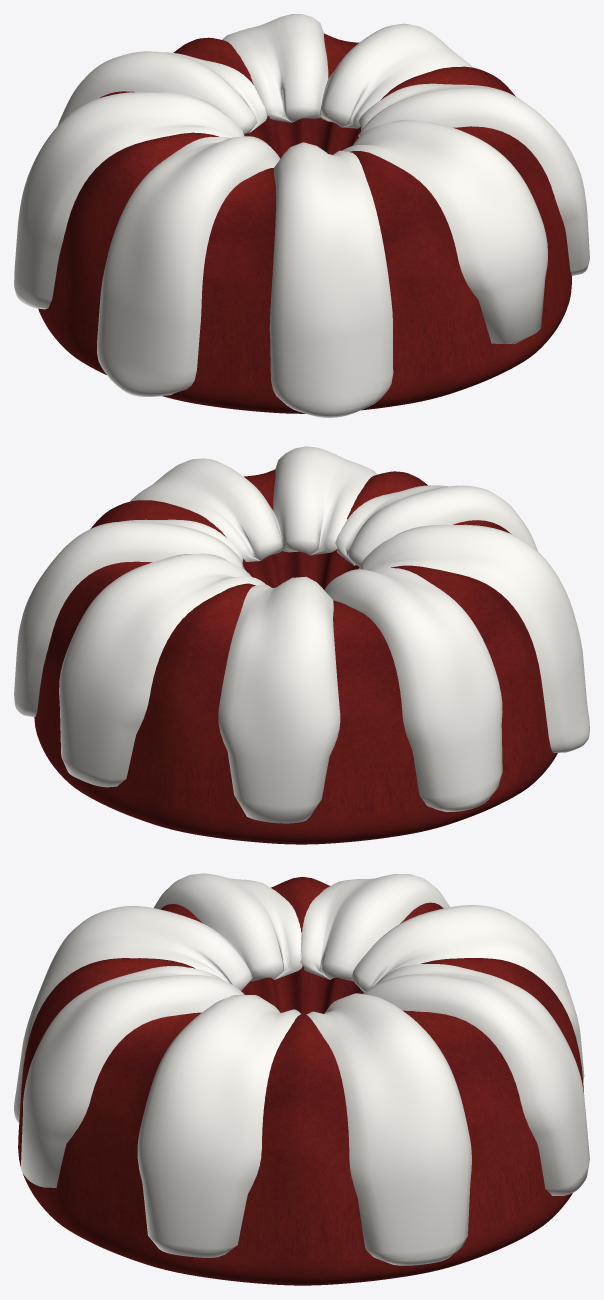
Rendered from bundt_redvelvet_10.glb.
3 views of the same model, one above another, from view 1: azimuth 30°, elevation 25°; view 2: azimuth 150°, elevation 25°; view 3: azimuth 270°, elevation 25° (orthographic). The views are drawn at different scales.
Parts seen in each view (by area): view 1: cake.001, frosting.005, frosting.004, frosting.006, frosting.003, frosting.007, frosting.002, frosting.001, frosting; view 2: cake.001, frosting.002, frosting.003, frosting.001, frosting.004, frosting, frosting.006, frosting.005, frosting.007; view 3: cake.001, frosting, frosting.007, frosting.001, frosting.006, frosting.002, frosting.005, frosting.003, frosting.004.
Part boxes in pixels (x1,y1,x2,y2): cake.001: (38,33,571,413); frosting.005: (269,142,393,417); frosting.004: (97,136,279,396); frosting.006: (342,119,547,343); frosting.003: (14,91,244,309); frosting.007: (358,83,589,275); frosting.002: (57,51,267,134); frosting.001: (222,14,328,122); frosting: (319,23,472,128); cake.001: (34,469,557,844); frosting.002: (218,576,340,823); frosting.003: (324,567,502,811); frosting.001: (59,553,265,787); frosting.004: (359,524,589,752); frosting: (14,519,245,717); frosting.006: (273,446,377,555); frosting.005: (335,485,537,566); frosting.007: (130,458,282,561); cake.001: (18,876,583,1285); frosting: (306,993,471,1265); frosting.007: (137,995,301,1257); frosting.001: (363,964,589,1195); frosting.006: (21,966,244,1187); frosting.002: (351,905,584,1081); frosting.005: (14,906,252,1122); frosting.003: (300,874,449,981); frosting.004: (153,873,302,981).
Size of the model in its own units: 0.2637 by 0.1165 by 0.2644.
Materials: 2 (1 with a texture image).
